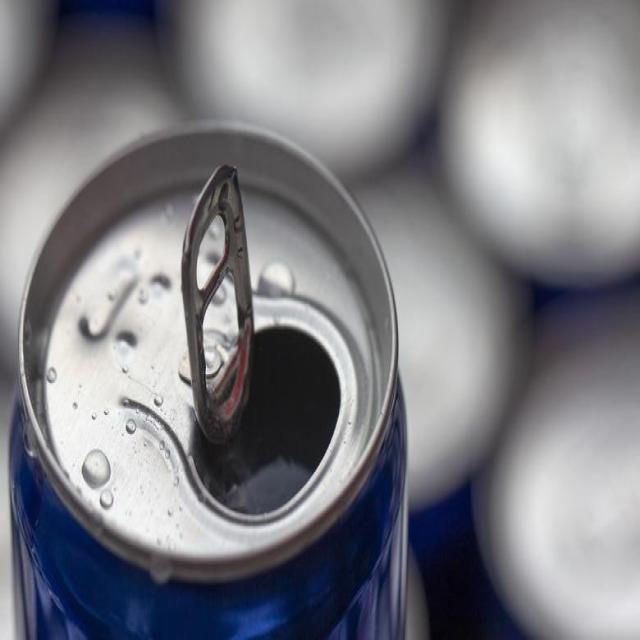can: (10, 118, 417, 640)
pop tab: (179, 160, 260, 450)
